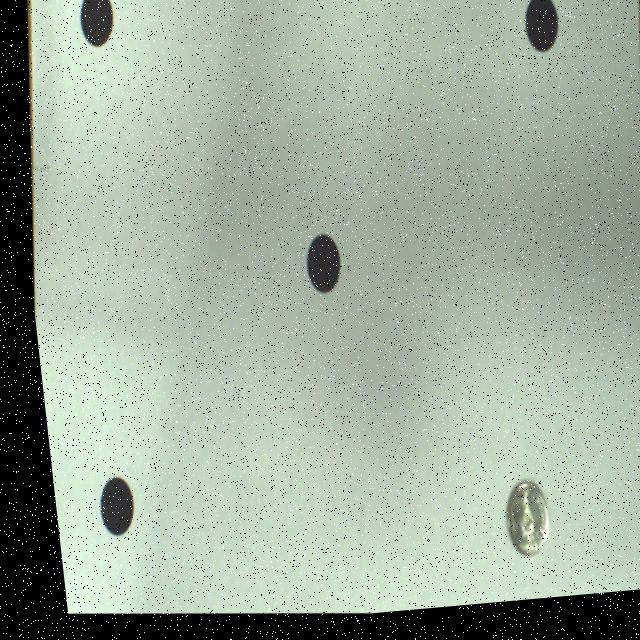space: (523, 3, 556, 61), (300, 239, 332, 297), (89, 477, 121, 535), (79, 0, 112, 49)
tail1bath: (493, 489, 535, 564)
